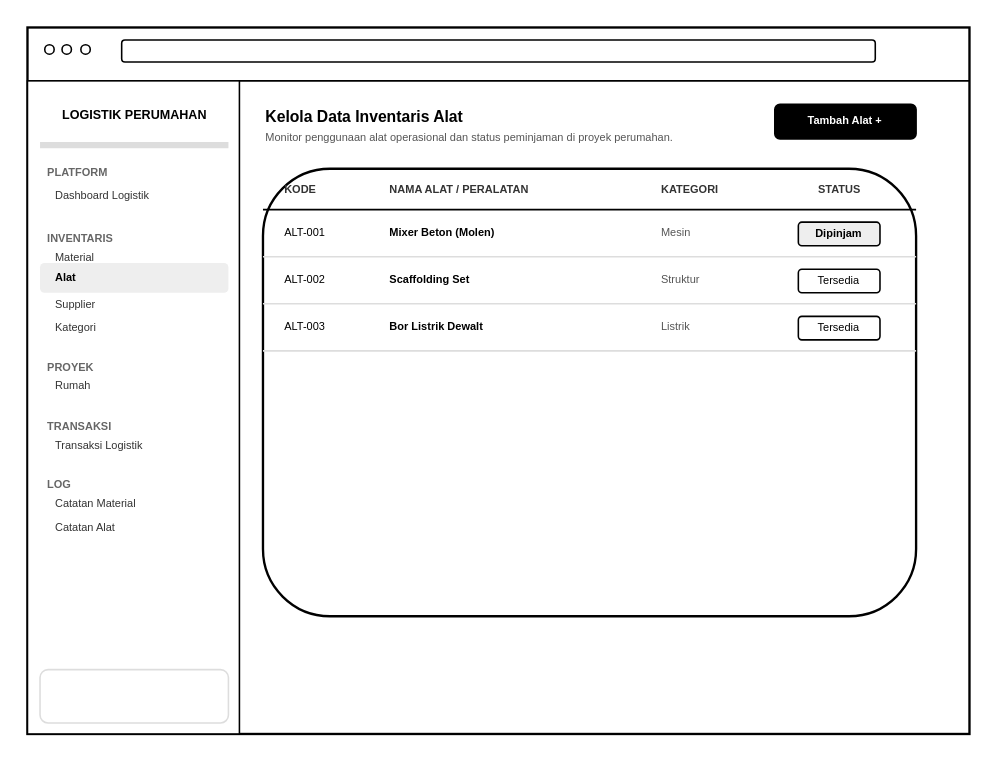
This 999x763 diagram has some shape labels left out. Here are the shapes that lost their labels. From the top down, the box of each, then its label:
(120, 38, 875, 62): http://localhost/logistik/tools
(38, 668, 228, 723): Logistik User logistik@example.com
